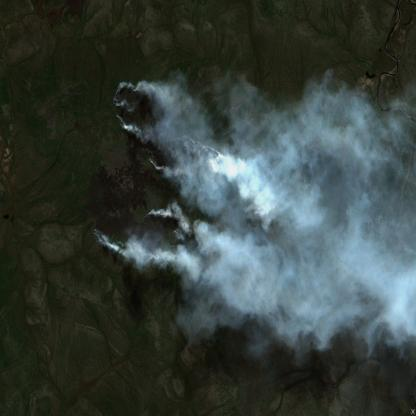fire: (86, 78, 224, 276)
